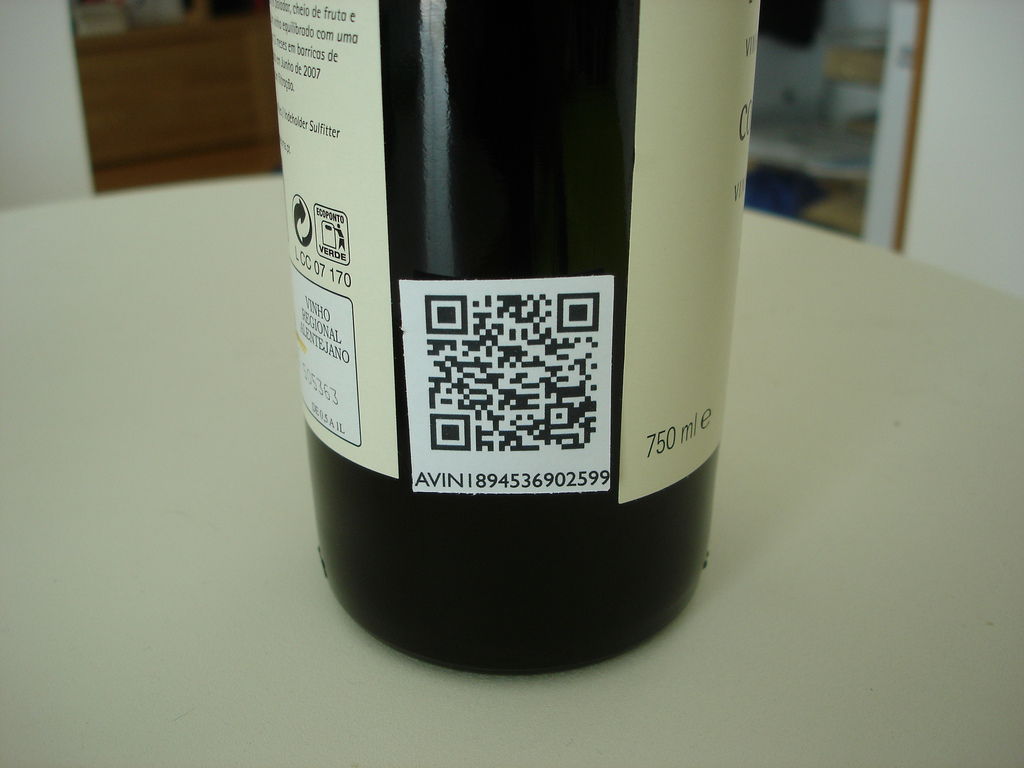QR-CODE: (425, 292, 598, 449)
